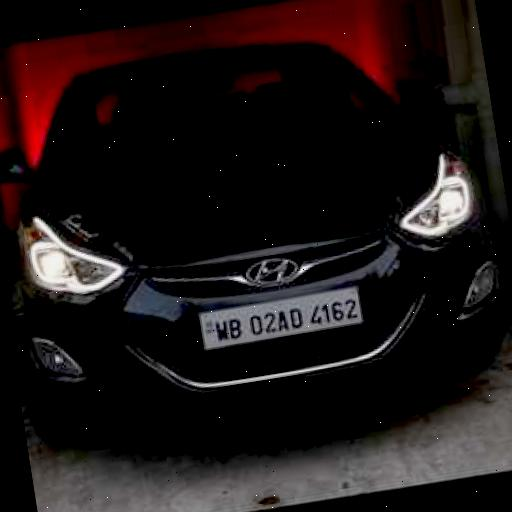license_plate`: (196, 284, 362, 346)
